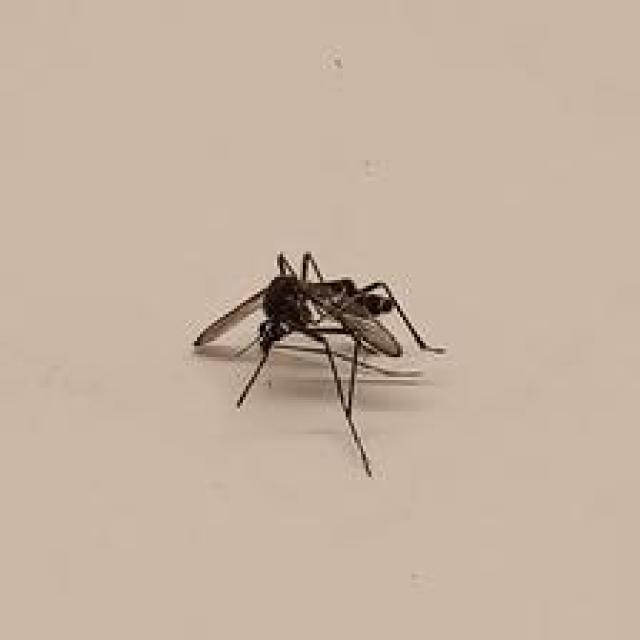Aedes albopictus: (193, 249, 447, 477)
